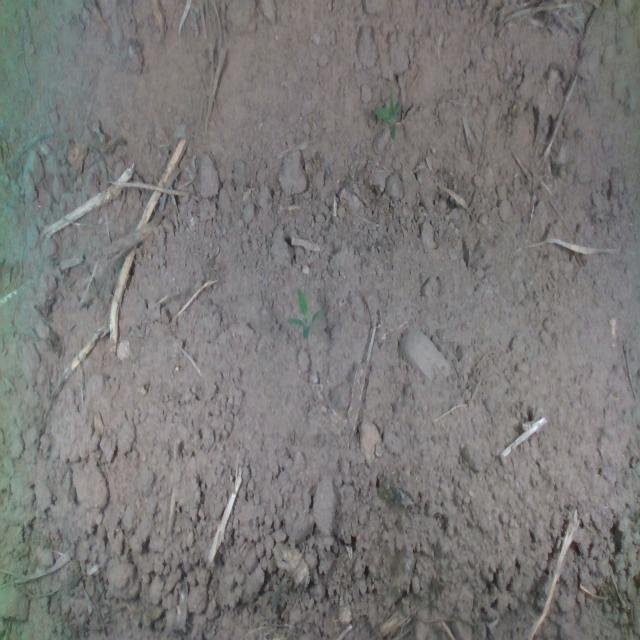weed: (284, 284, 322, 340), (372, 85, 404, 142)
